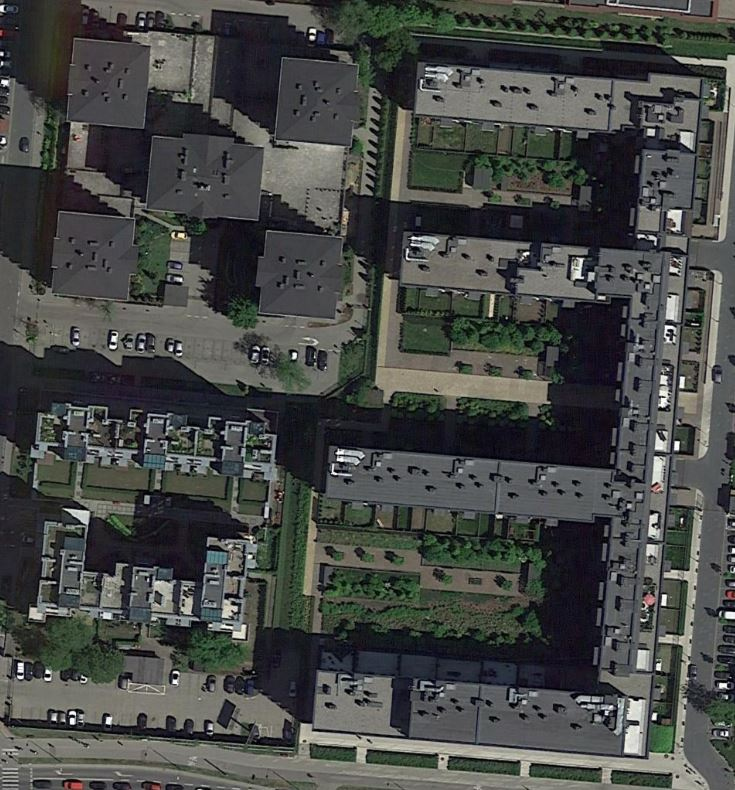block of flats: (298, 55, 730, 764), (21, 510, 278, 644), (28, 396, 284, 523), (142, 124, 268, 224), (247, 227, 352, 323), (273, 52, 366, 152), (50, 208, 143, 306), (64, 41, 157, 130)
